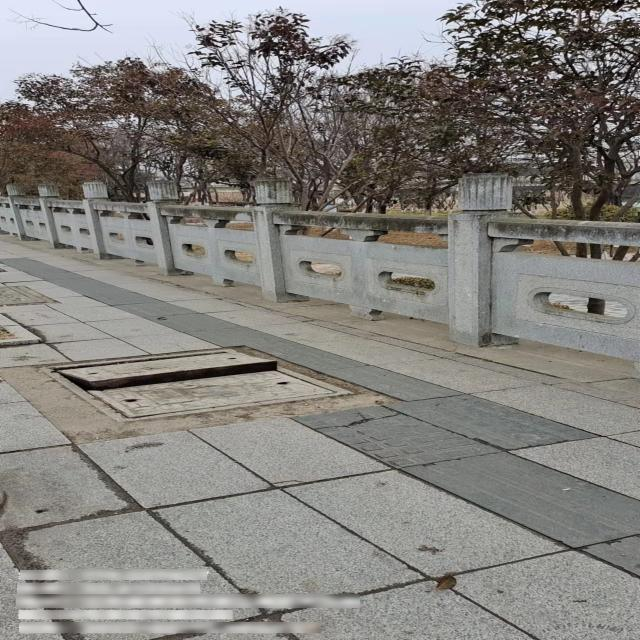Faulty: (35, 346, 355, 421)
